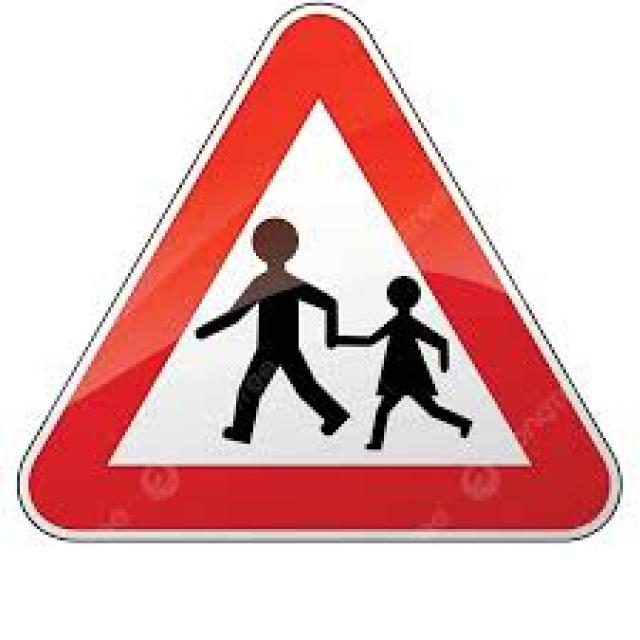AttentionEnfant: (17, 0, 618, 513)
